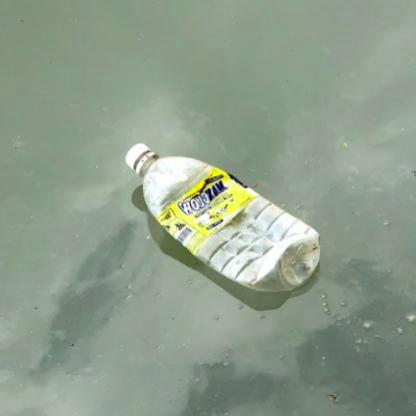Plastic: (120, 137, 334, 307)
